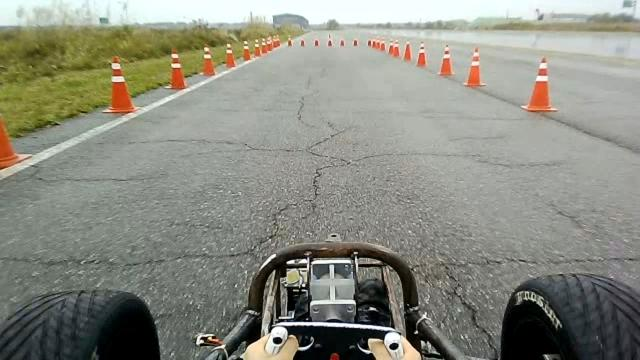red cone: (102, 55, 138, 113), (521, 56, 558, 112), (462, 47, 487, 87), (165, 48, 188, 89), (438, 44, 454, 76), (201, 46, 216, 76), (224, 42, 237, 68), (416, 41, 427, 67), (242, 39, 251, 61), (403, 40, 412, 61), (392, 39, 400, 57)
